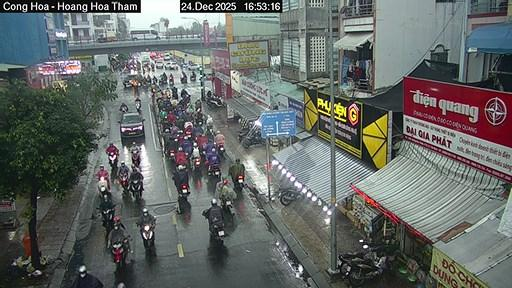motorbike: (336, 238, 387, 275), (348, 252, 386, 286), (99, 205, 114, 234), (278, 189, 301, 205), (208, 220, 224, 243), (140, 223, 153, 247), (243, 133, 265, 147), (112, 243, 124, 268), (178, 184, 188, 211), (205, 95, 223, 108), (98, 176, 108, 198), (167, 138, 176, 162), (220, 194, 231, 212), (130, 179, 140, 198), (118, 172, 128, 190), (108, 152, 117, 170), (208, 165, 220, 178), (233, 174, 243, 188), (192, 157, 201, 171), (131, 151, 138, 166), (118, 104, 128, 112), (134, 99, 140, 112), (217, 144, 223, 156), (159, 76, 166, 84), (189, 73, 195, 81), (201, 210, 207, 217), (179, 76, 185, 82), (152, 76, 156, 84), (169, 77, 172, 85)
